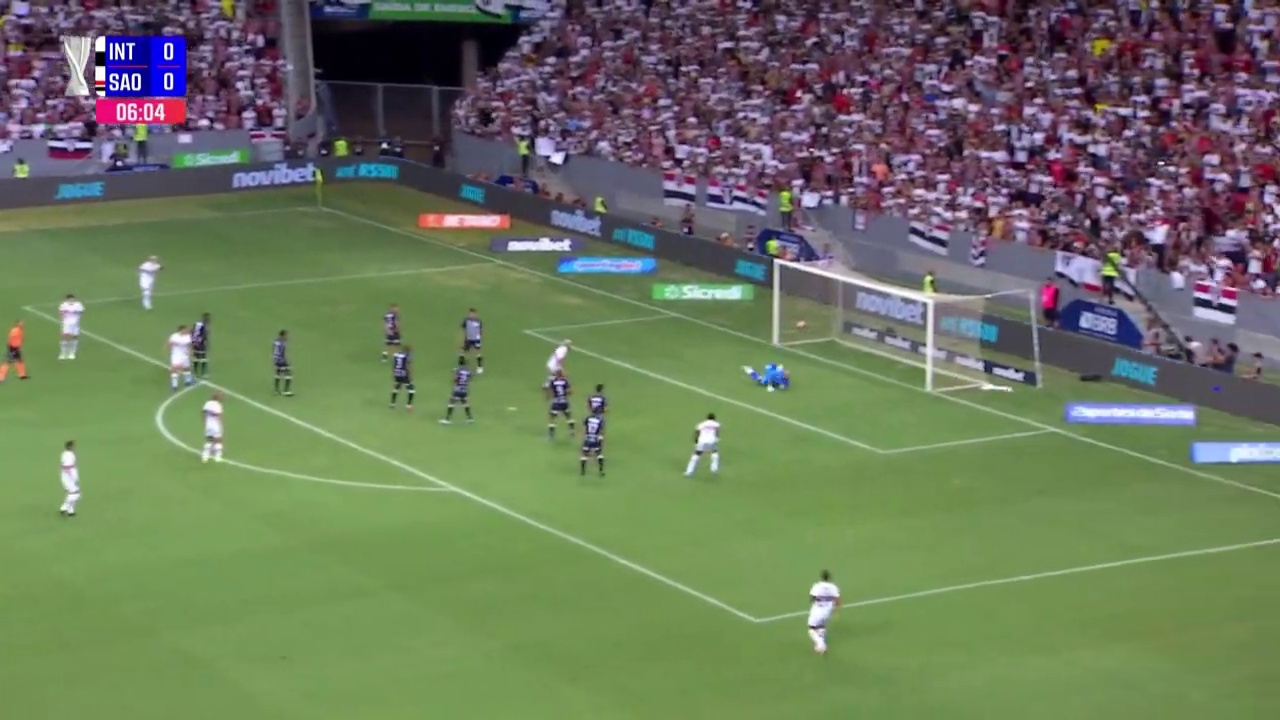ball: (883, 335, 909, 356)
